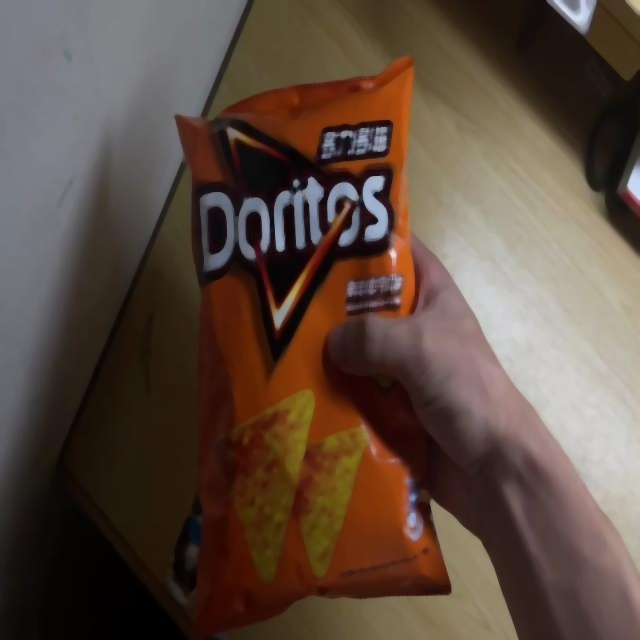Doritos: (170, 54, 453, 640)
